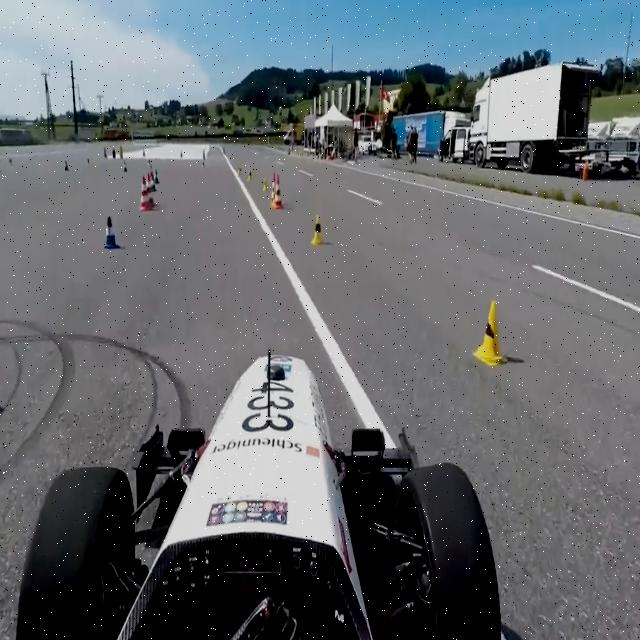blue_cone: (100, 210, 122, 244)
orange_cone: (138, 172, 156, 216), (270, 165, 282, 212)
yellow_cone: (466, 298, 504, 367), (310, 210, 328, 247)
